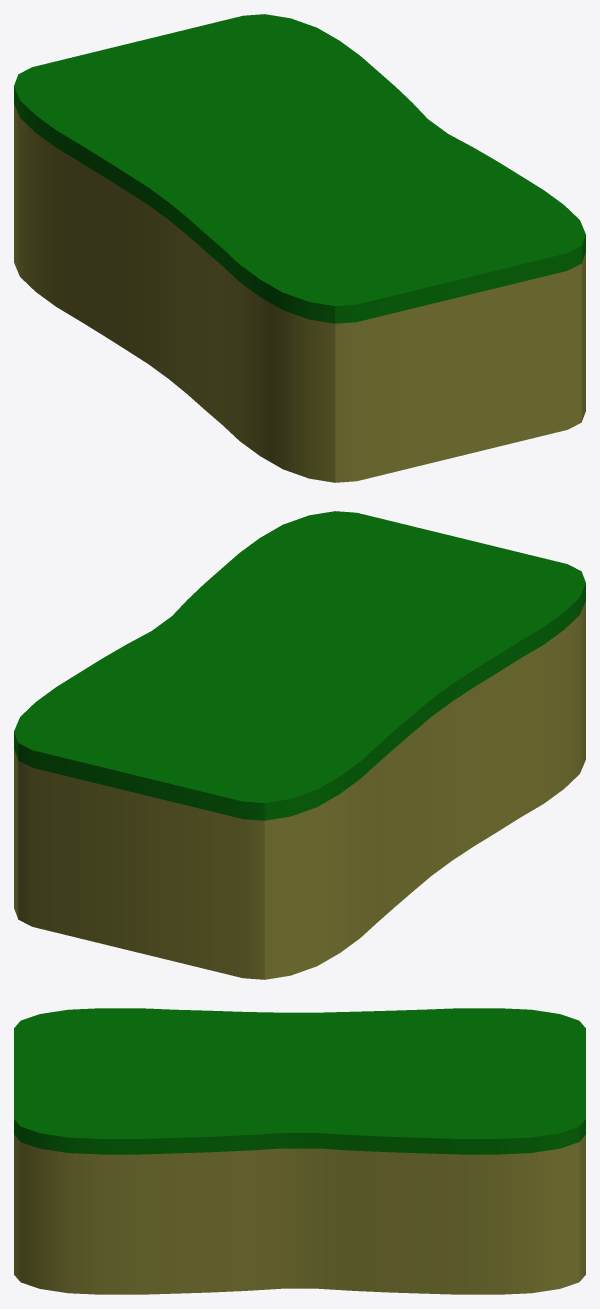
File: Sponge.fbx
3 renders of one model, top to bottom at view 1: azimuth 30°, elevation 25°; view 2: azimuth 150°, elevation 25°; view 3: azimuth 270°, elevation 25°, orthographic. The views are drawn at different scales.
Visible parts, largest first — view 1: Sponge; view 2: Sponge; view 3: Sponge.
Part boxes in pixels (x1,y1,x2,y2): Sponge: (14, 14, 585, 482); Sponge: (14, 511, 585, 979); Sponge: (14, 1008, 585, 1294).
Size of the model in its own units: 135 by 74.78 by 249.
